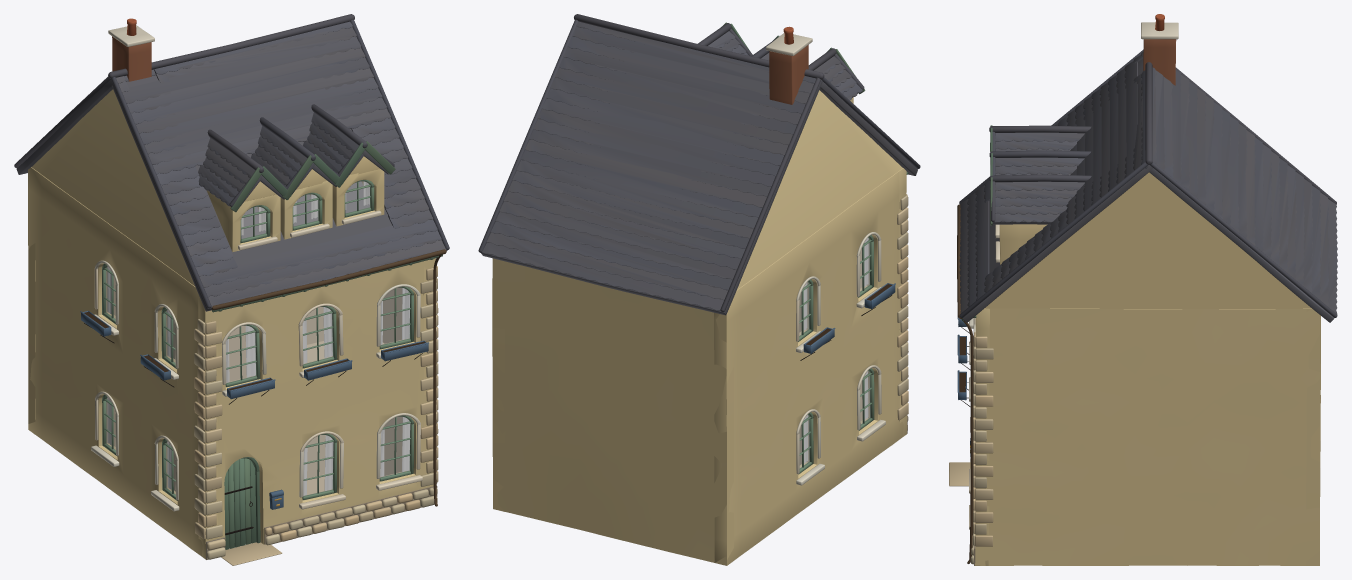
File: Opposite_Opposite1_1.glb
The picture shows the model from 3 angles, left to right: view 1: azimuth 30°, elevation 25°; view 2: azimuth 150°, elevation 25°; view 3: azimuth 270°, elevation 25°; orthographic projection. The views are drawn at different scales.
Parts seen in each view (by area): view 1: Sammel Putz, Sammel Stein, Sammel Lack, Glas, Sammel Putz innen, Vorhang Leinen, Sammel Metall, Sammel Ziegel; view 2: Sammel Putz, Sammel Stein, Sammel Lack, Sammel Ziegel, Glas, Vorhang Leinen; view 3: Sammel Putz, Sammel Stein, Sammel Metall, Sammel Ziegel, Sammel Lack.
Boxes of the visible parts, left/top/right/bottom form: Sammel Putz: left=28, top=18, right=437, bottom=559; Sammel Stein: left=14, top=14, right=449, bottom=565; Sammel Lack: left=80, top=141, right=442, bottom=549; Glas: left=106, top=181, right=410, bottom=495; Sammel Putz innen: left=113, top=277, right=402, bottom=494; Vorhang Leinen: left=107, top=181, right=410, bottom=495; Sammel Metall: left=84, top=249, right=446, bottom=535; Sammel Ziegel: left=112, top=36, right=151, bottom=81; Sammel Putz: left=492, top=26, right=907, bottom=565; Sammel Stein: left=478, top=14, right=920, bottom=430; Sammel Lack: left=722, top=22, right=908, bottom=474; Sammel Ziegel: left=769, top=45, right=808, bottom=104; Glas: left=799, top=238, right=870, bottom=467; Vorhang Leinen: left=803, top=238, right=868, bottom=463; Sammel Putz: left=959, top=14, right=1320, bottom=565; Sammel Stein: left=949, top=49, right=1337, bottom=564; Sammel Metall: left=957, top=204, right=973, bottom=563; Sammel Ziegel: left=1143, top=39, right=1176, bottom=85; Sammel Lack: left=957, top=125, right=992, bottom=456.
Size of the model in its own units: 6.61 by 11.55 by 9.03.
